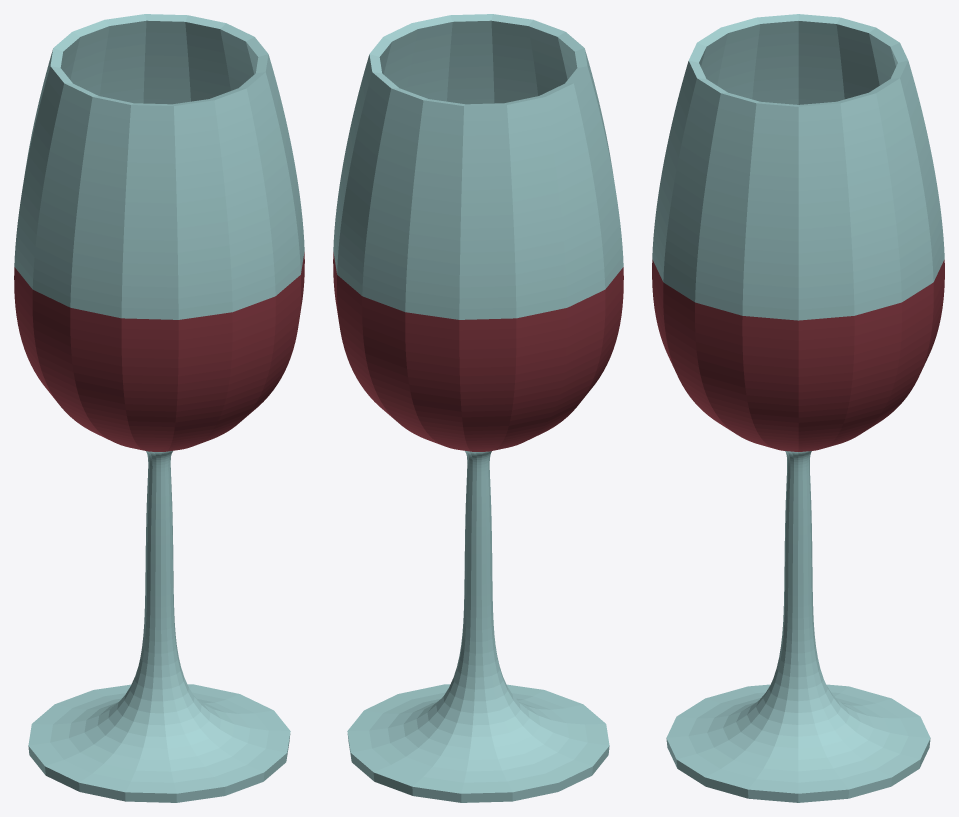
Rendered from wine_glass.glb.
3 renders of one model, left to right at view 1: azimuth 30°, elevation 25°; view 2: azimuth 150°, elevation 25°; view 3: azimuth 270°, elevation 25°, orthographic.
Visible parts, largest first — view 1: glass, glass1; view 2: glass, glass1; view 3: glass, glass1.
Part boxes in pixels (x1,y1,x2,y2): glass: [14, 14, 304, 802]; glass1: [14, 252, 304, 451]; glass: [333, 14, 623, 802]; glass1: [333, 252, 623, 451]; glass: [652, 14, 944, 802]; glass1: [652, 259, 944, 451].
Size of the model in its own units: 1.65 by 4.27 by 1.65.
